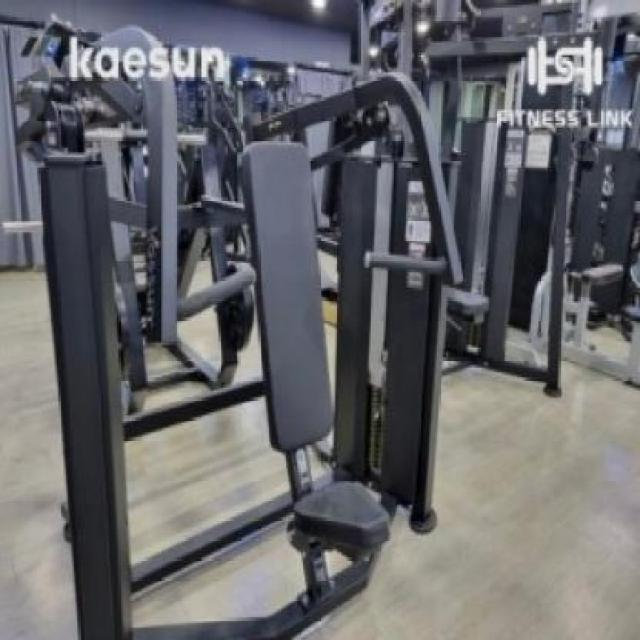Chest Press machine: (0, 14, 477, 640)
